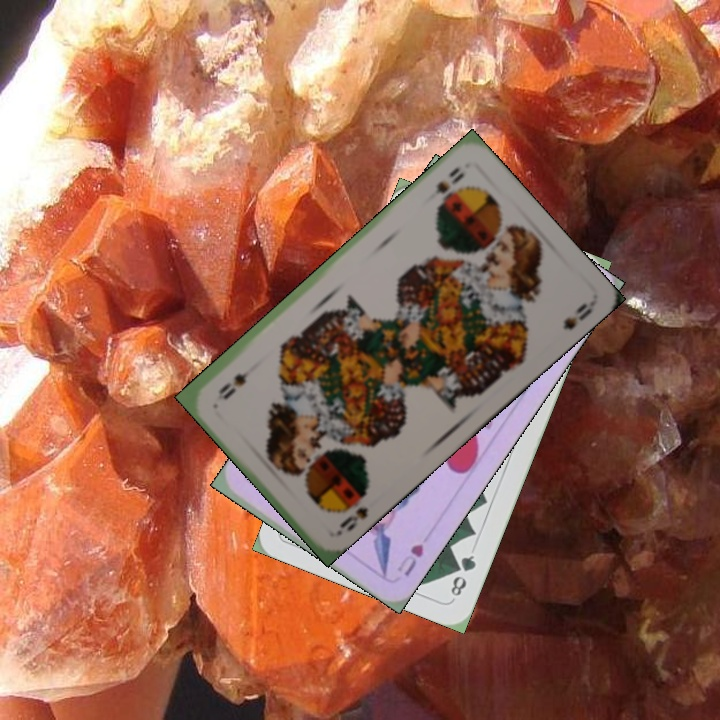G8: (446, 551, 479, 599)
HU: (392, 540, 427, 579)
SO: (332, 485, 371, 539), (431, 162, 467, 197)
